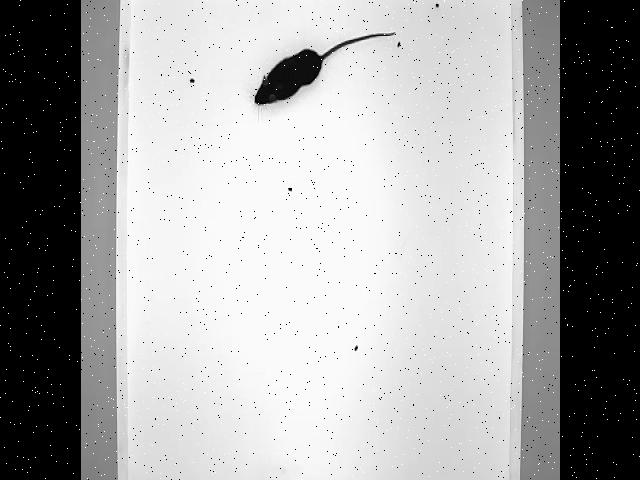Tikus: (251, 29, 398, 109)
